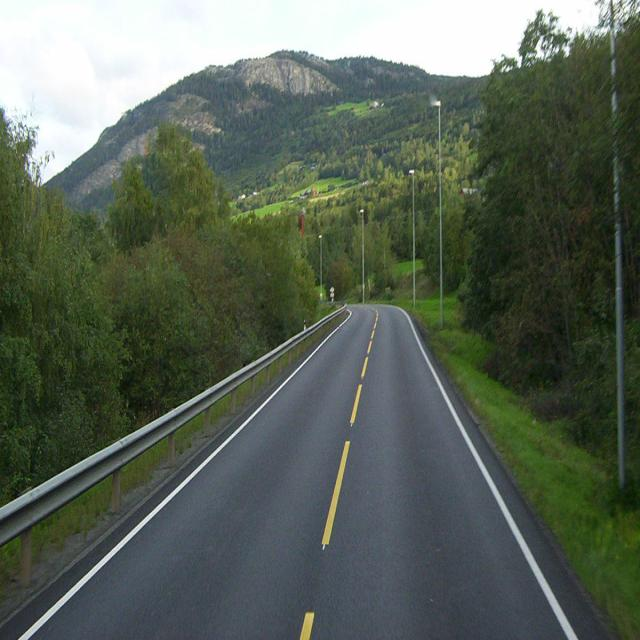Clean road: (0, 291, 640, 640)
